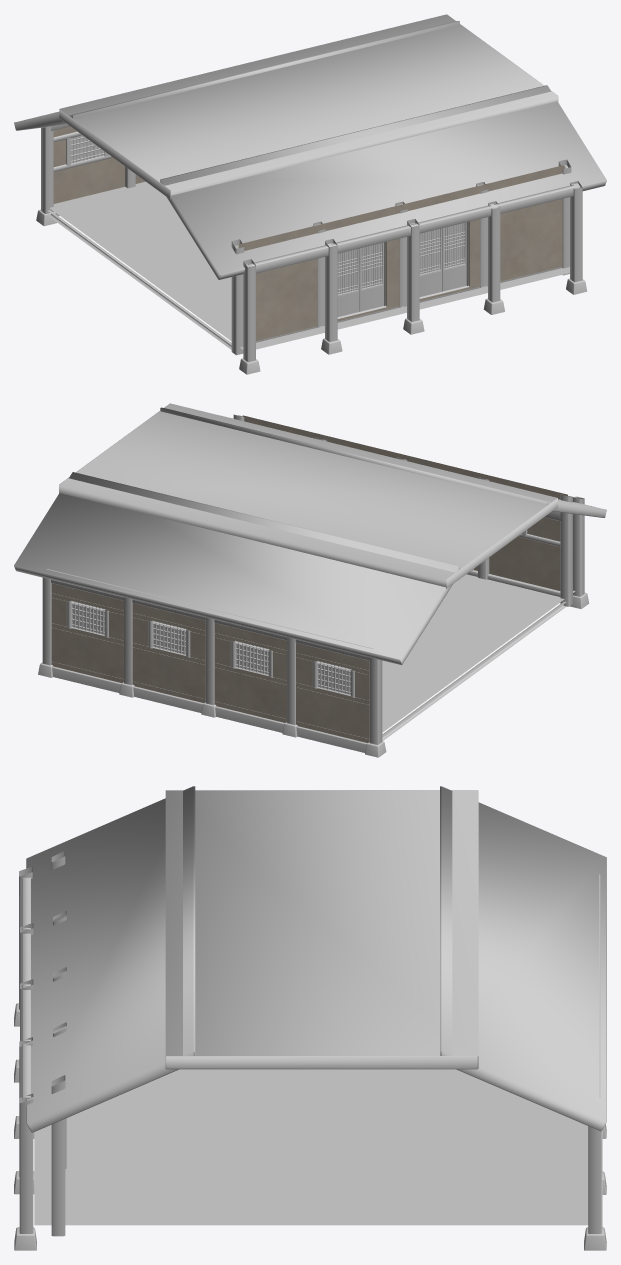
The model's file is WoodcutHanok_Mid.fbx.
3 views of the same model, one above another, from view 1: azimuth 30°, elevation 25°; view 2: azimuth 150°, elevation 25°; view 3: azimuth 270°, elevation 25° (orthographic). The views are drawn at different scales.
Visible parts, largest first — view 1: WoodPlankUi2leaxlw003, PlasterWall_015, Gapandea008, WoodOil, WoodOil.005, WoodOil.006, DoorFrame.006, DoorFrame.007, DoorFrame.005, DoorFrame.002, WoodOil.003, StoneCastle003 (+1 smaller); view 2: WoodPlankUi2leaxlw003, PlasterWall_015, Gapandea008, WoodOil, StoneCastle003, WindowFrame, WoodOil.005, Glass_015, WoodOil.003, WoodOil.006; view 3: WoodPlankUi2leaxlw003, Gapandea008, WoodOil.006, WoodOil, StoneCastle003.
Part boxes in pixels (bbox=[...]): WoodPlankUi2leaxlw003: bbox=[14, 14, 606, 279]; PlasterWall_015: bbox=[53, 126, 565, 341]; Gapandea008: bbox=[49, 181, 569, 349]; WoodOil: bbox=[46, 112, 576, 349]; WoodOil.005: bbox=[41, 126, 244, 355]; WoodOil.006: bbox=[558, 159, 582, 282]; DoorFrame.006: bbox=[442, 222, 466, 291]; DoorFrame.007: bbox=[359, 242, 383, 311]; DoorFrame.005: bbox=[419, 228, 442, 296]; DoorFrame.002: bbox=[337, 248, 359, 316]; WoodOil.003: bbox=[243, 259, 255, 362]; StoneCastle003: bbox=[56, 213, 504, 354]; WoodPlankUi2leaxlw003: bbox=[14, 403, 606, 665]; PlasterWall_015: bbox=[51, 415, 567, 742]; Gapandea008: bbox=[382, 574, 575, 732]; WoodOil: bbox=[46, 437, 566, 742]; StoneCastle003: bbox=[52, 666, 367, 752]; WindowFrame: bbox=[72, 601, 350, 694]; WoodOil.005: bbox=[369, 494, 572, 744]; Glass_015: bbox=[72, 601, 350, 694]; WoodOil.003: bbox=[573, 496, 584, 596]; WoodOil.006: bbox=[42, 414, 244, 665]; WoodPlankUi2leaxlw003: bbox=[26, 786, 606, 1132]; Gapandea008: bbox=[34, 1069, 588, 1225]; WoodOil.006: bbox=[19, 1075, 601, 1236]; WoodOil: bbox=[19, 874, 600, 1176]; StoneCastle003: bbox=[14, 1059, 606, 1227].
Size of the model in its own units: 1142 by 431 by 1076.
